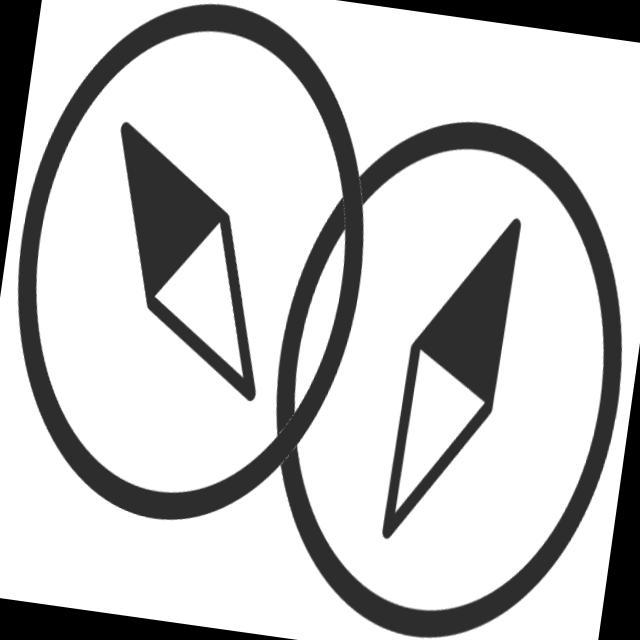compass: (1, 1, 477, 567), (241, 82, 640, 640)
